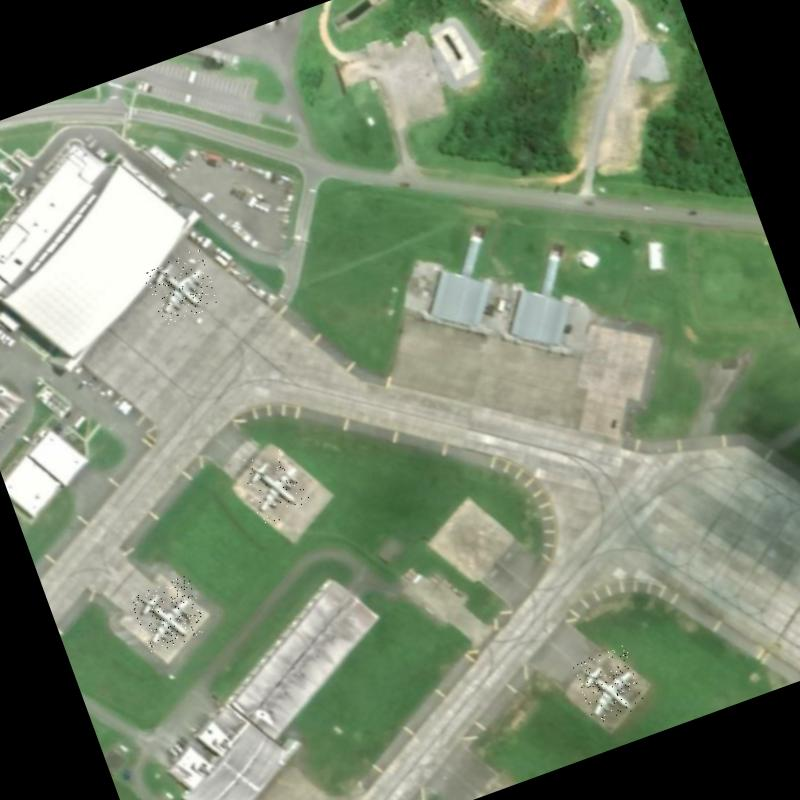A9: (237, 439, 319, 526), (128, 574, 209, 654), (140, 247, 220, 326), (572, 644, 648, 726)
